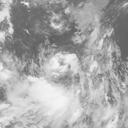cyclone: (40, 46, 83, 79)
